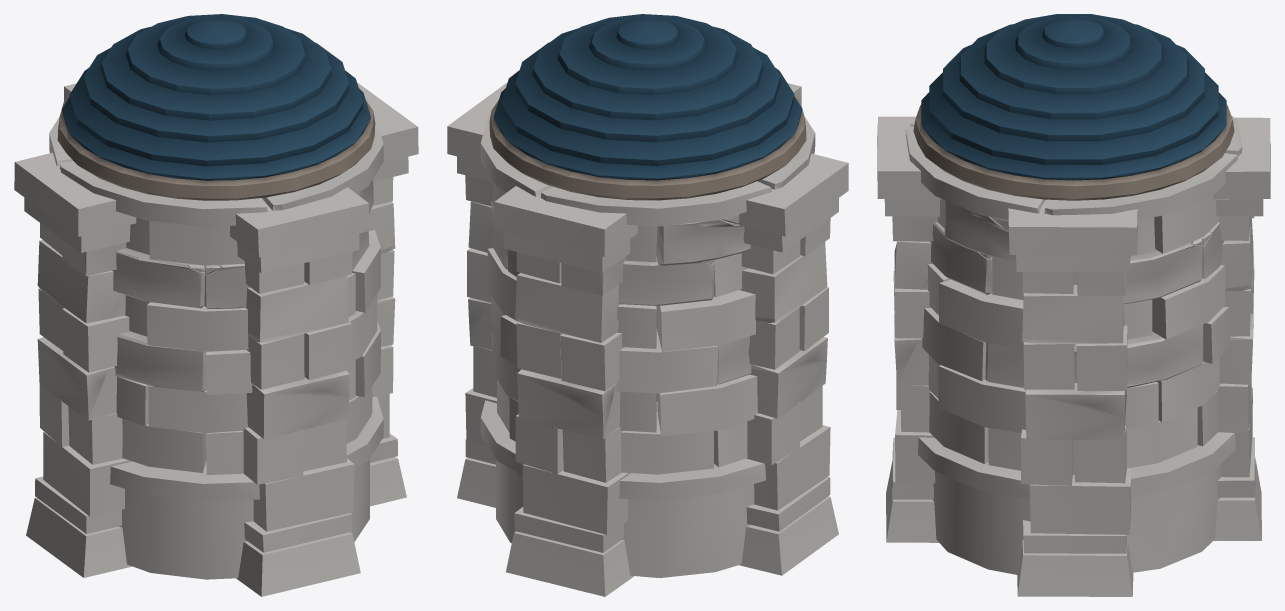
File: obj_pillar_C_LOW.FBX
3 renders of one model, left to right at view 1: azimuth 30°, elevation 25°; view 2: azimuth 150°, elevation 25°; view 3: azimuth 270°, elevation 25°, orthographic.
Parts seen in each view (by area): view 1: obj_pillar_C_LOW; view 2: obj_pillar_C_LOW; view 3: obj_pillar_C_LOW.
Part boxes in pixels (<box>): obj_pillar_C_LOW: <box>14,14,418,596</box>; obj_pillar_C_LOW: <box>447,14,848,596</box>; obj_pillar_C_LOW: <box>877,14,1270,596</box>.
Bounding box in the file's own units: 4.25 × 5.91 × 4.25.
